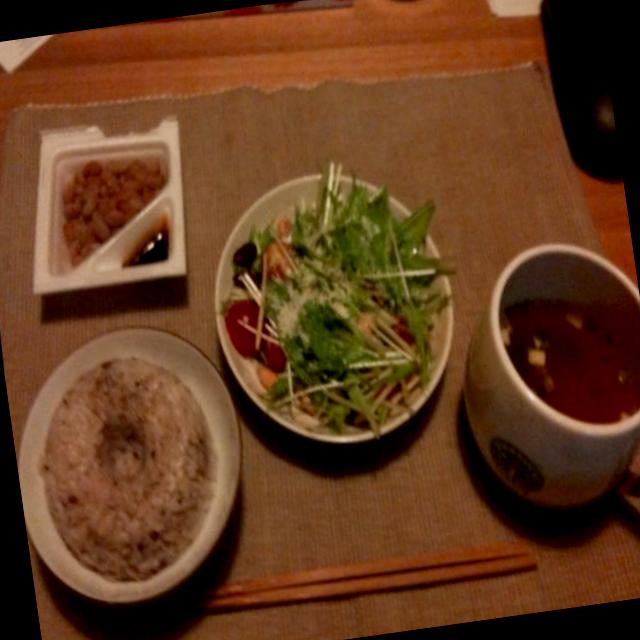Green Salad: (194, 157, 478, 469)
